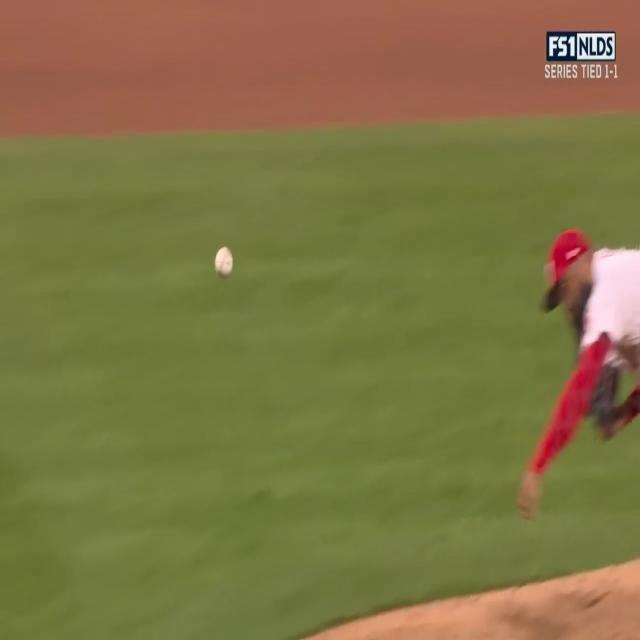baseball: (214, 244, 234, 280)
